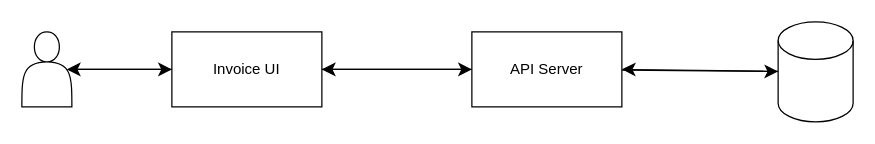
Some shapes in this 875 by 144 pixel diagram are drawn without their labels. The shapes that lost their labels are listed below. From the top down, each one's box as (x1, y1, x2, y2) in pixels, then its label:
(21, 31, 72, 107): user
(777, 21, 853, 122): DB
